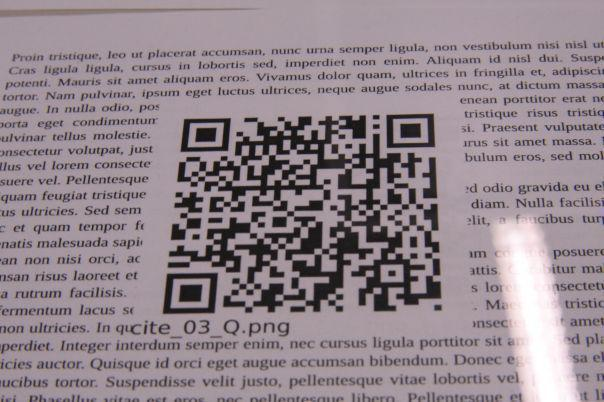qr_code: (163, 112, 443, 315)
